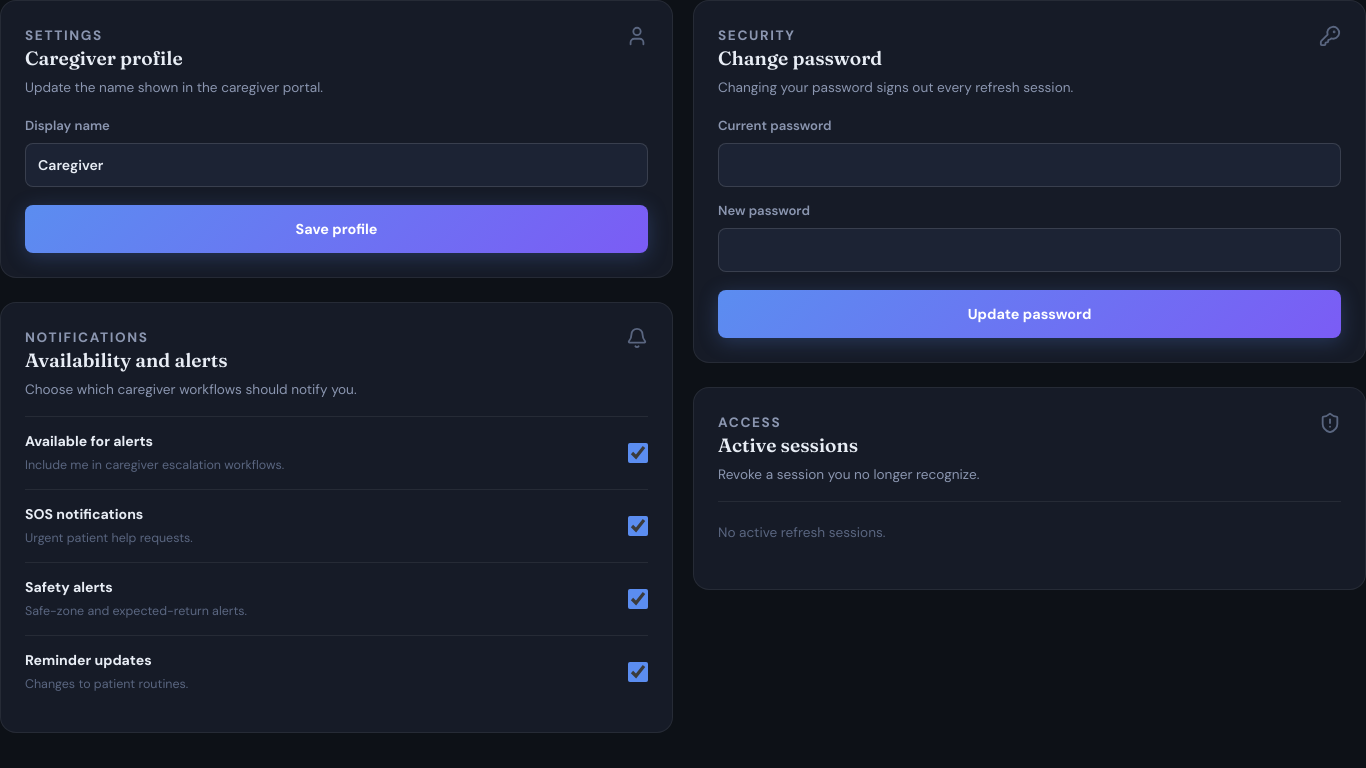
Scenario: SettingsPage sessions › updates caregiver availability
Click the checkbox labelled "Available for alerts".
click(638, 453)  # box [628,443,648,463]
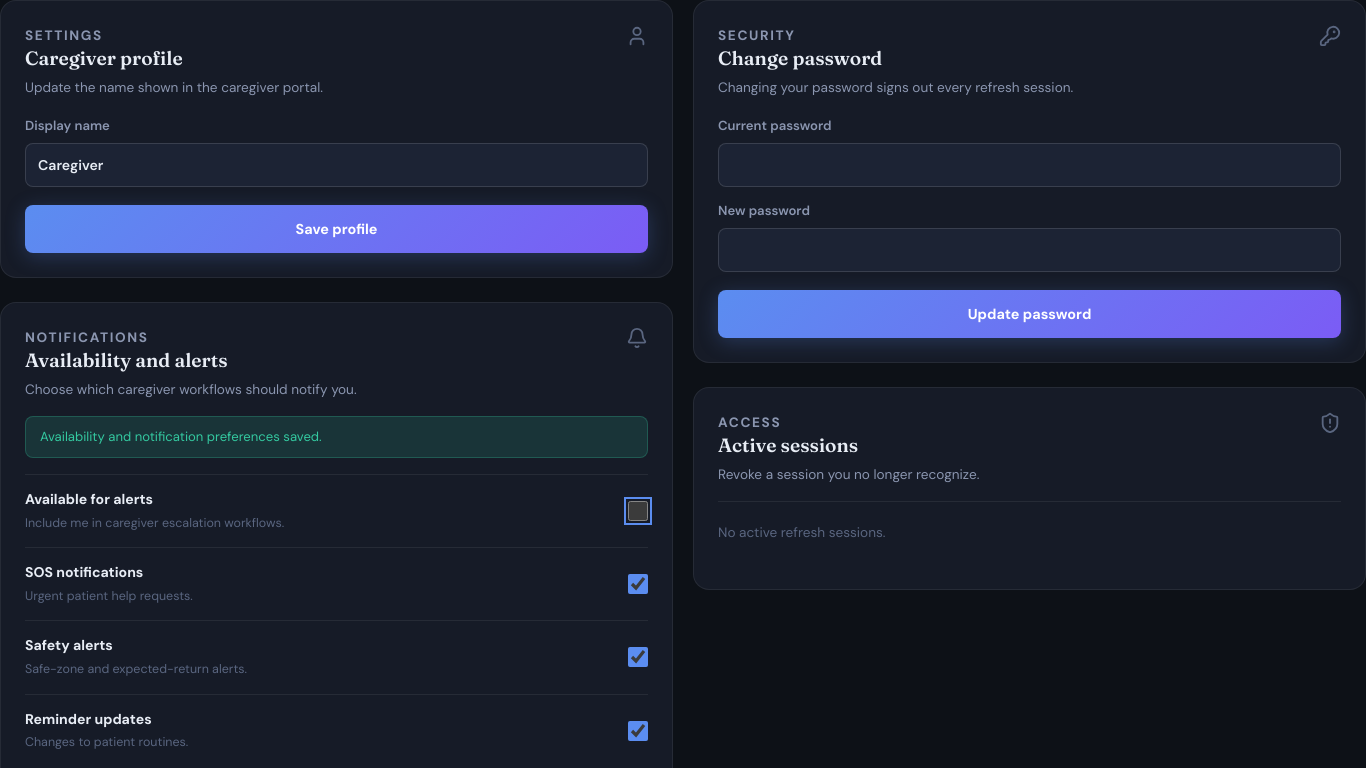
Expected: the text "Availability and notification preferences saved." is shown, [25,416,648,458]
